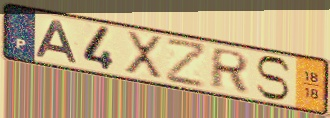4: (80, 23, 119, 73)
A: (33, 19, 80, 66)
R: (207, 46, 252, 94)
S: (254, 54, 294, 102)
X: (123, 29, 164, 83)
Z: (166, 38, 209, 90)
